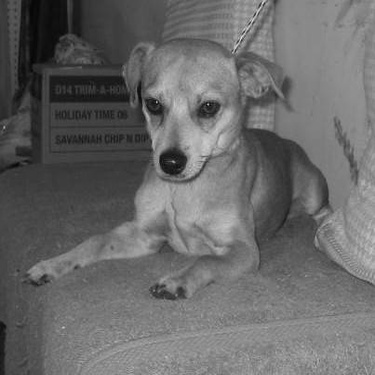dog: (12, 22, 341, 303)
